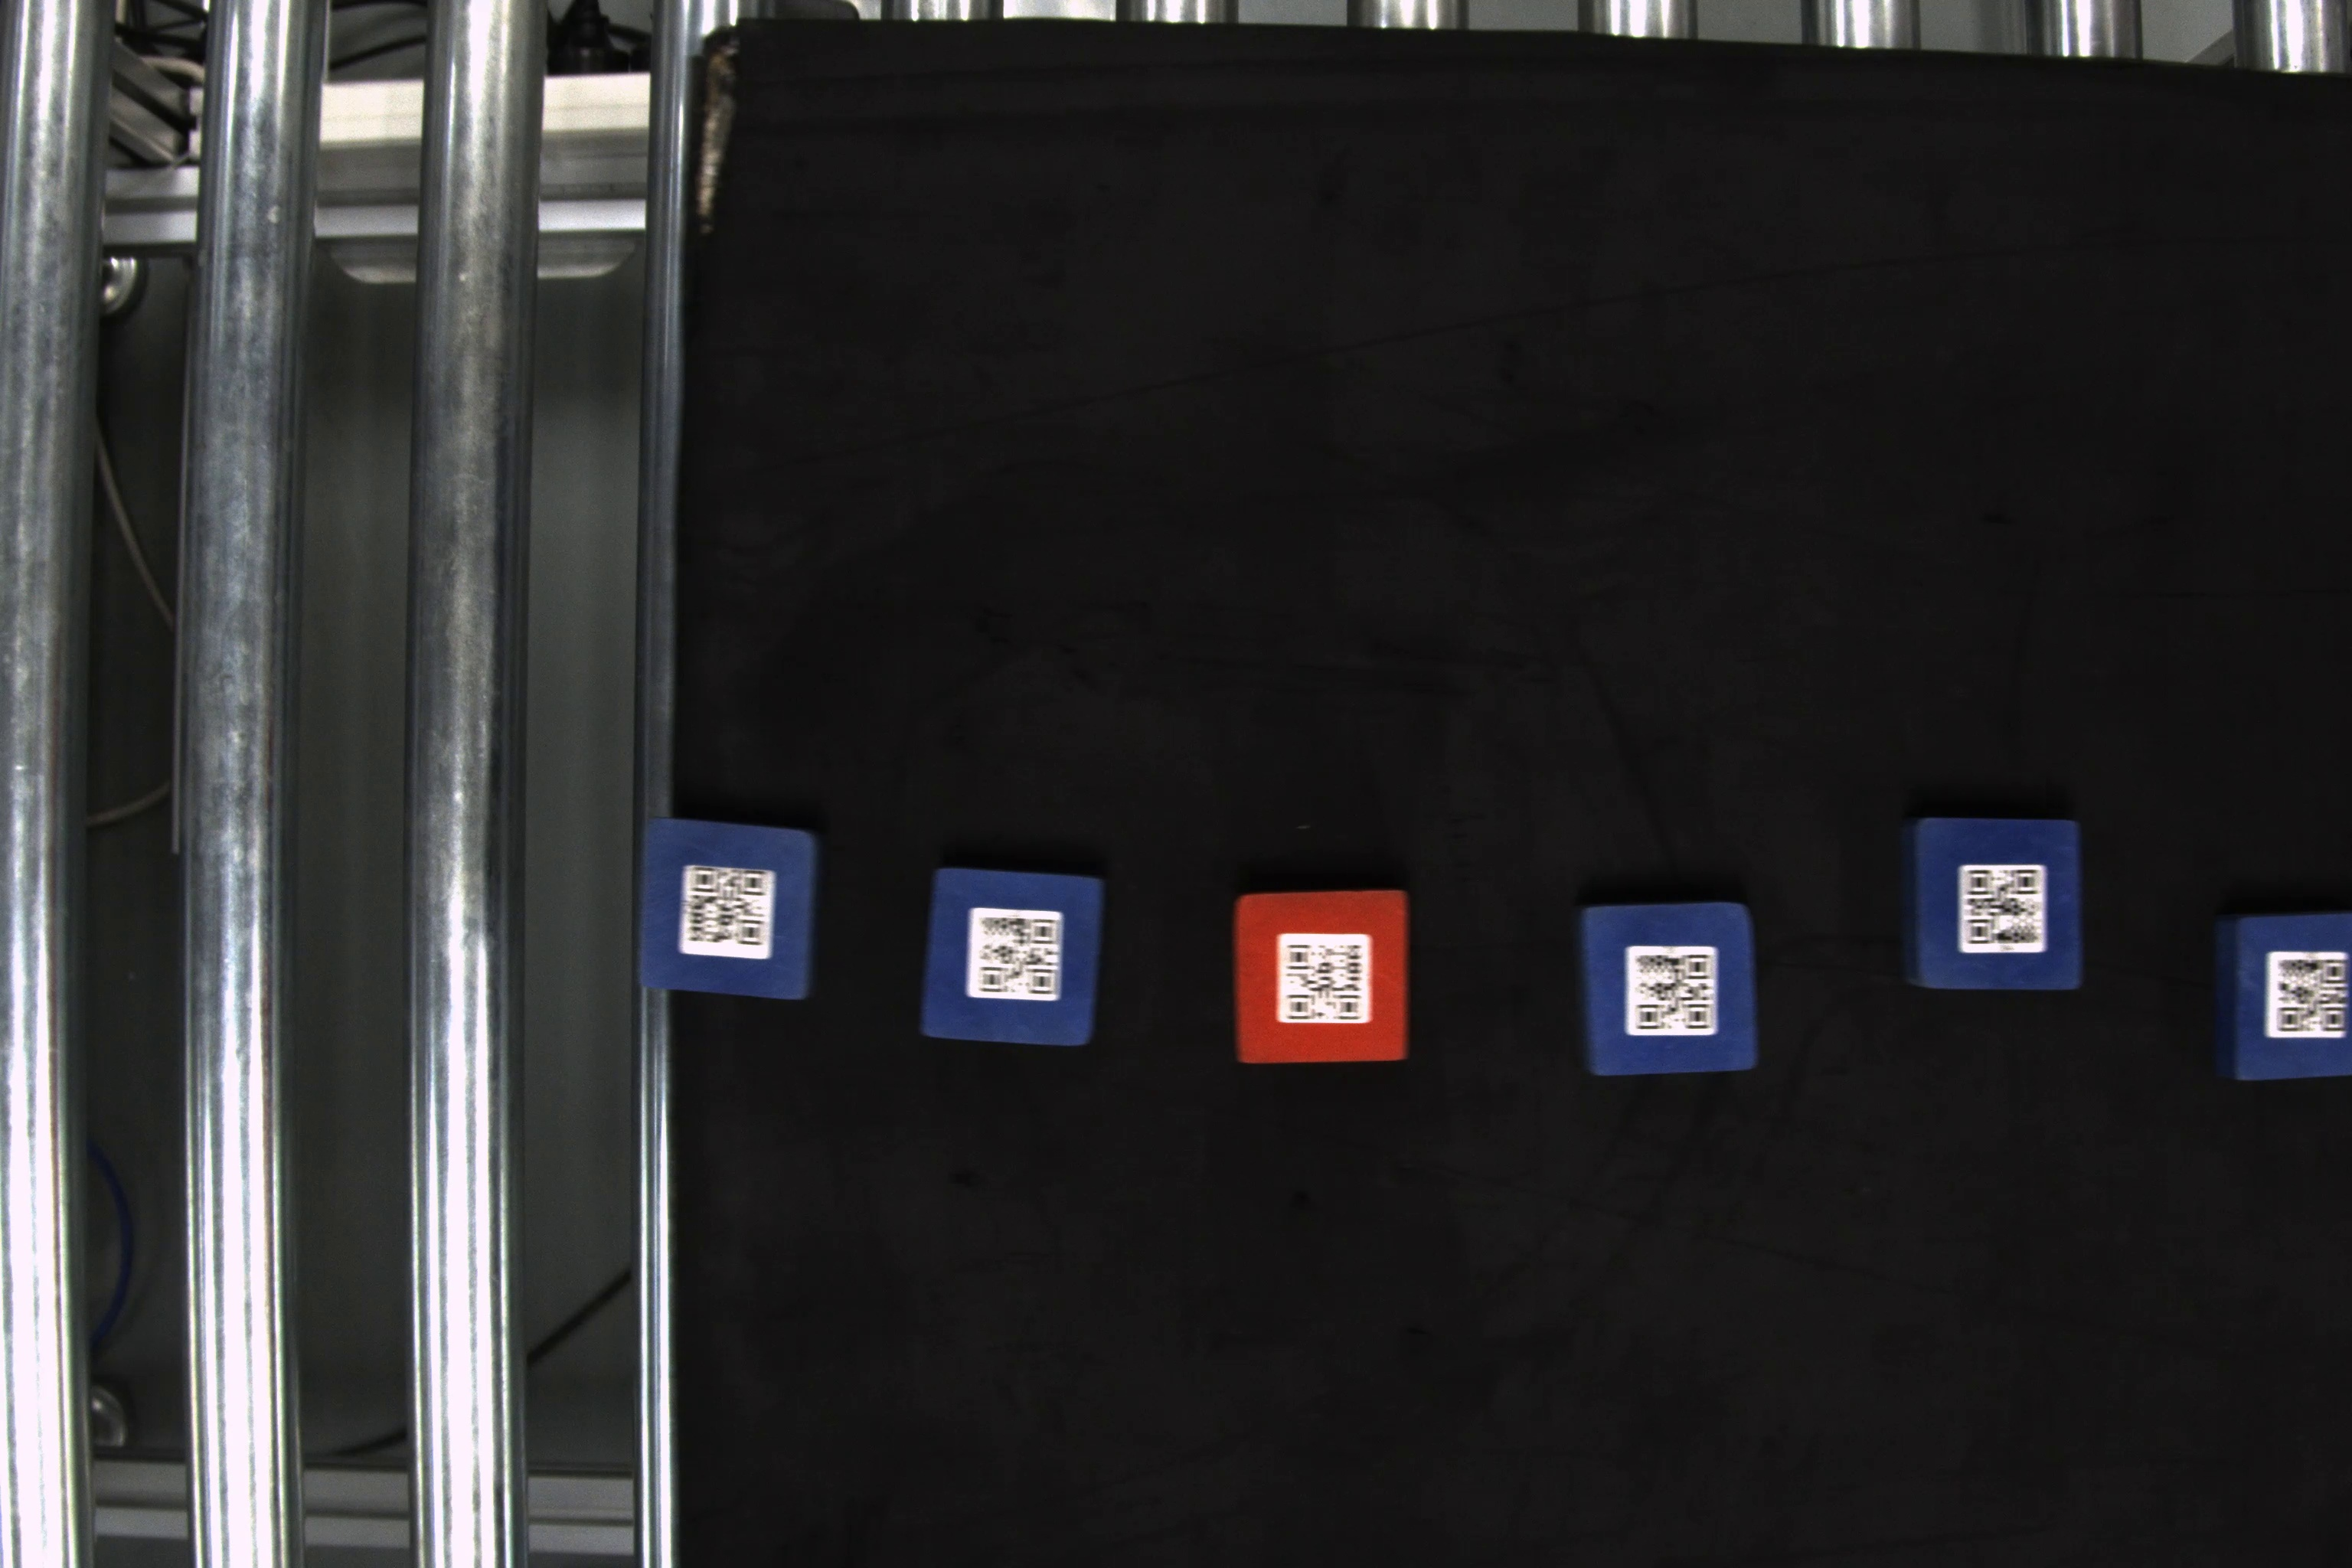wood: (639, 814, 829, 1001), (1573, 896, 1762, 1083), (1232, 887, 1417, 1071), (931, 859, 1109, 1050), (1909, 814, 2088, 996), (2215, 906, 2348, 1085)
